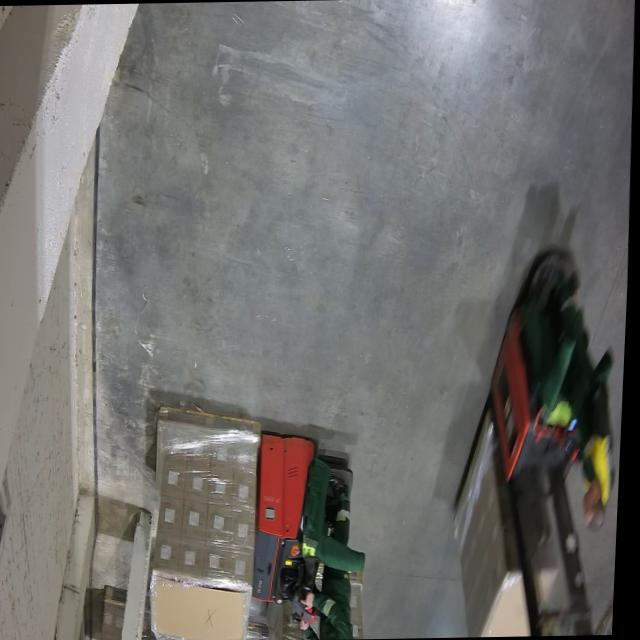pallet: (157, 574, 257, 640), (476, 571, 566, 637)
